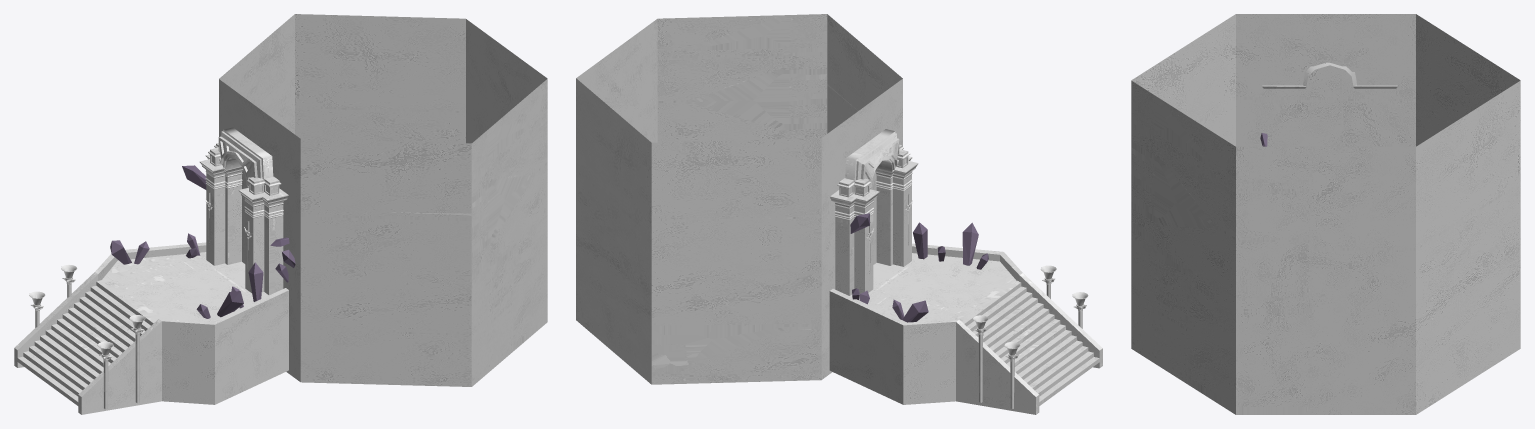
Rendered from castle.fbx.
The picture shows the model from 3 angles, left to right: view 1: azimuth 30°, elevation 25°; view 2: azimuth 150°, elevation 25°; view 3: azimuth 270°, elevation 25°; orthographic projection. The views are drawn at different scales.
Visible parts, largest first — view 1: polySurface1920; view 2: polySurface1920; view 3: polySurface1920.
Boxes of the visible parts, left/top/right/bottom form: polySurface1920: left=14, top=14, right=547, bottom=414; polySurface1920: left=576, top=14, right=1102, bottom=414; polySurface1920: left=1131, top=14, right=1520, bottom=414.
Size of the model in its own units: 79.68 by 40.58 by 53.4.
2 materials, 1 textured.
